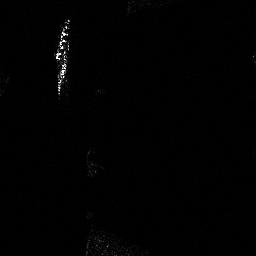ship: (54, 17, 70, 61)
